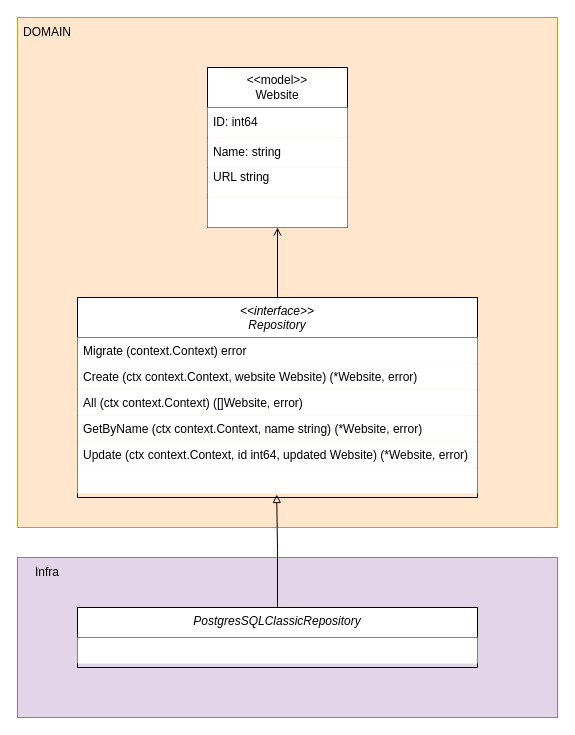
This 575x735 diagram has some shape labels left out. Here are the shapes that lost their labels. From the top down, the centre of each, then its label:
At [277,212]: "Rank int64".
At [277,480]: "Delete (ctx context.Context, id int64) error".
At [277,650]: "db: *sql.DB".
